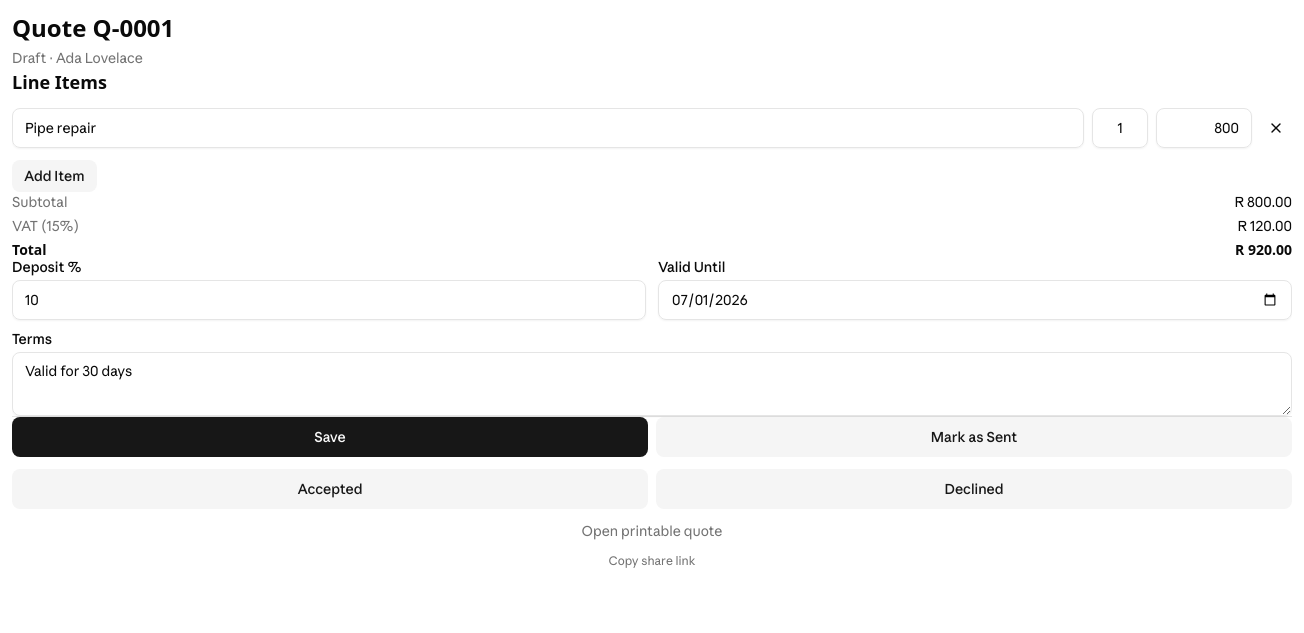
it: QuoteEditorClient › adds a new line item row
The image size is (1304, 633).
Click the button "Add Item": (54, 176) [12,160,97,192]
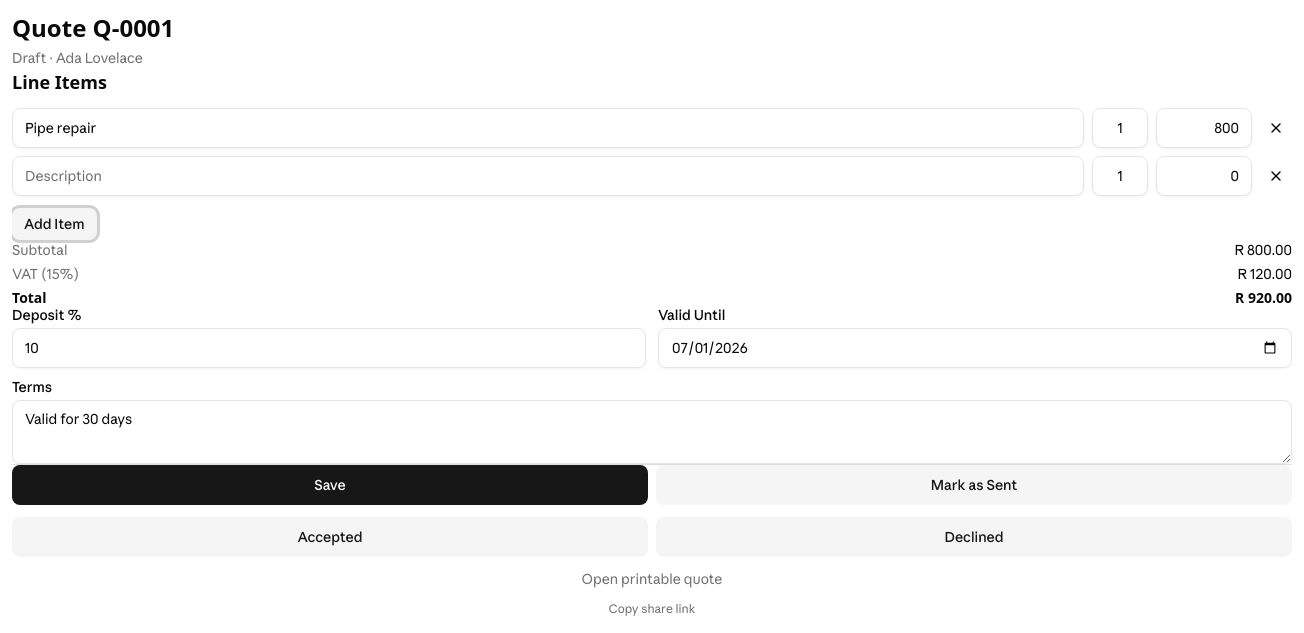
Expected: the number of fields with placeholder "Description" is 2, [12,108,1084,148]; [12,156,1084,196]
